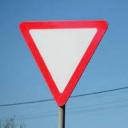preferencia: (15, 18, 112, 108)
